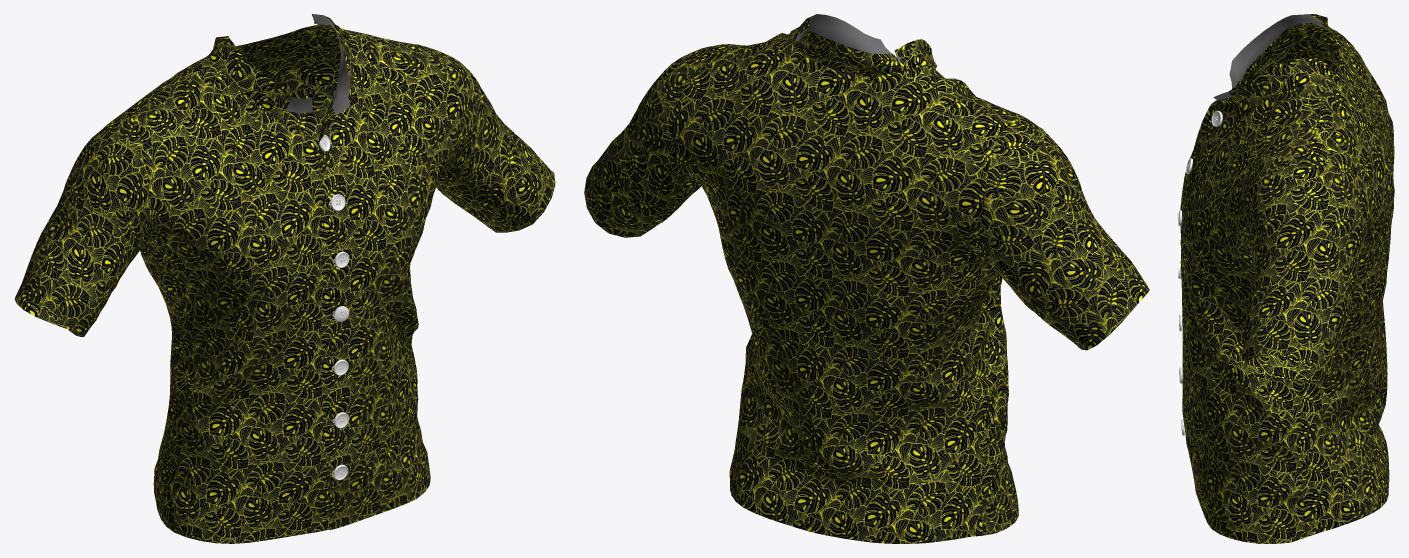
The model's file is Baju_Pendek.fbx.
3 views of the same model, side by side, from view 1: azimuth 30°, elevation 25°; view 2: azimuth 150°, elevation 25°; view 3: azimuth 270°, elevation 25° (orthographic). The views are drawn at different scales.
Parts seen in each view (by area): view 1: Baju_Pendek.003; view 2: Baju_Pendek.003; view 3: Baju_Pendek.003.
Boxes of the visible parts, <box> form: Baju_Pendek.003: <box>14,14,555,543</box>; Baju_Pendek.003: <box>584,14,1149,543</box>; Baju_Pendek.003: <box>1178,14,1394,543</box>.
Bounding box in the file's own units: 736 × 619 × 268.
4 materials, 2 textured.
